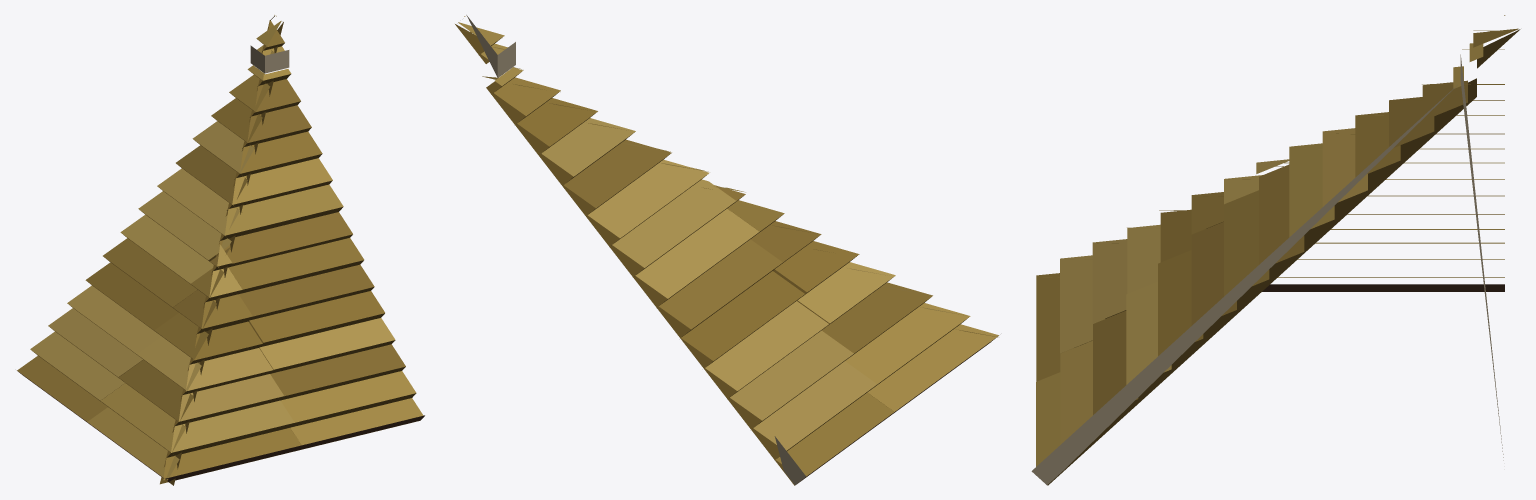
File: roof-high-corner-thatch.glb
3 views of the same model, side by side, from view 1: azimuth 30°, elevation 25°; view 2: azimuth 150°, elevation 25°; view 3: azimuth 270°, elevation 25° (orthographic). The views are drawn at different scales.
Parts seen in each view (by area): view 1: roof-high-corner-thatch; view 2: roof-high-corner-thatch; view 3: roof-high-corner-thatch.
Part boxes in pixels (x1,y1,x2,y2): roof-high-corner-thatch: [17, 15, 424, 485]; roof-high-corner-thatch: [455, 15, 998, 485]; roof-high-corner-thatch: [1031, 15, 1520, 485].
Size of the model in its own units: 1.11 by 1.18 by 1.11.
